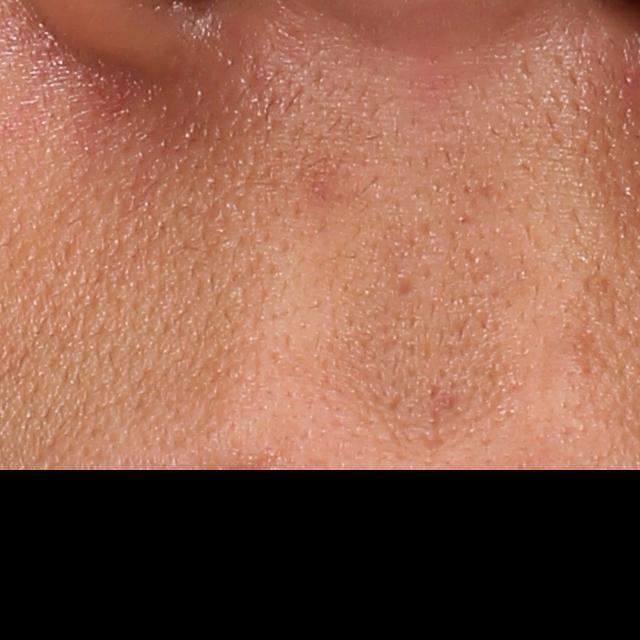atrophic_scar: (420, 382, 462, 464), (391, 276, 418, 305), (381, 389, 408, 416)
